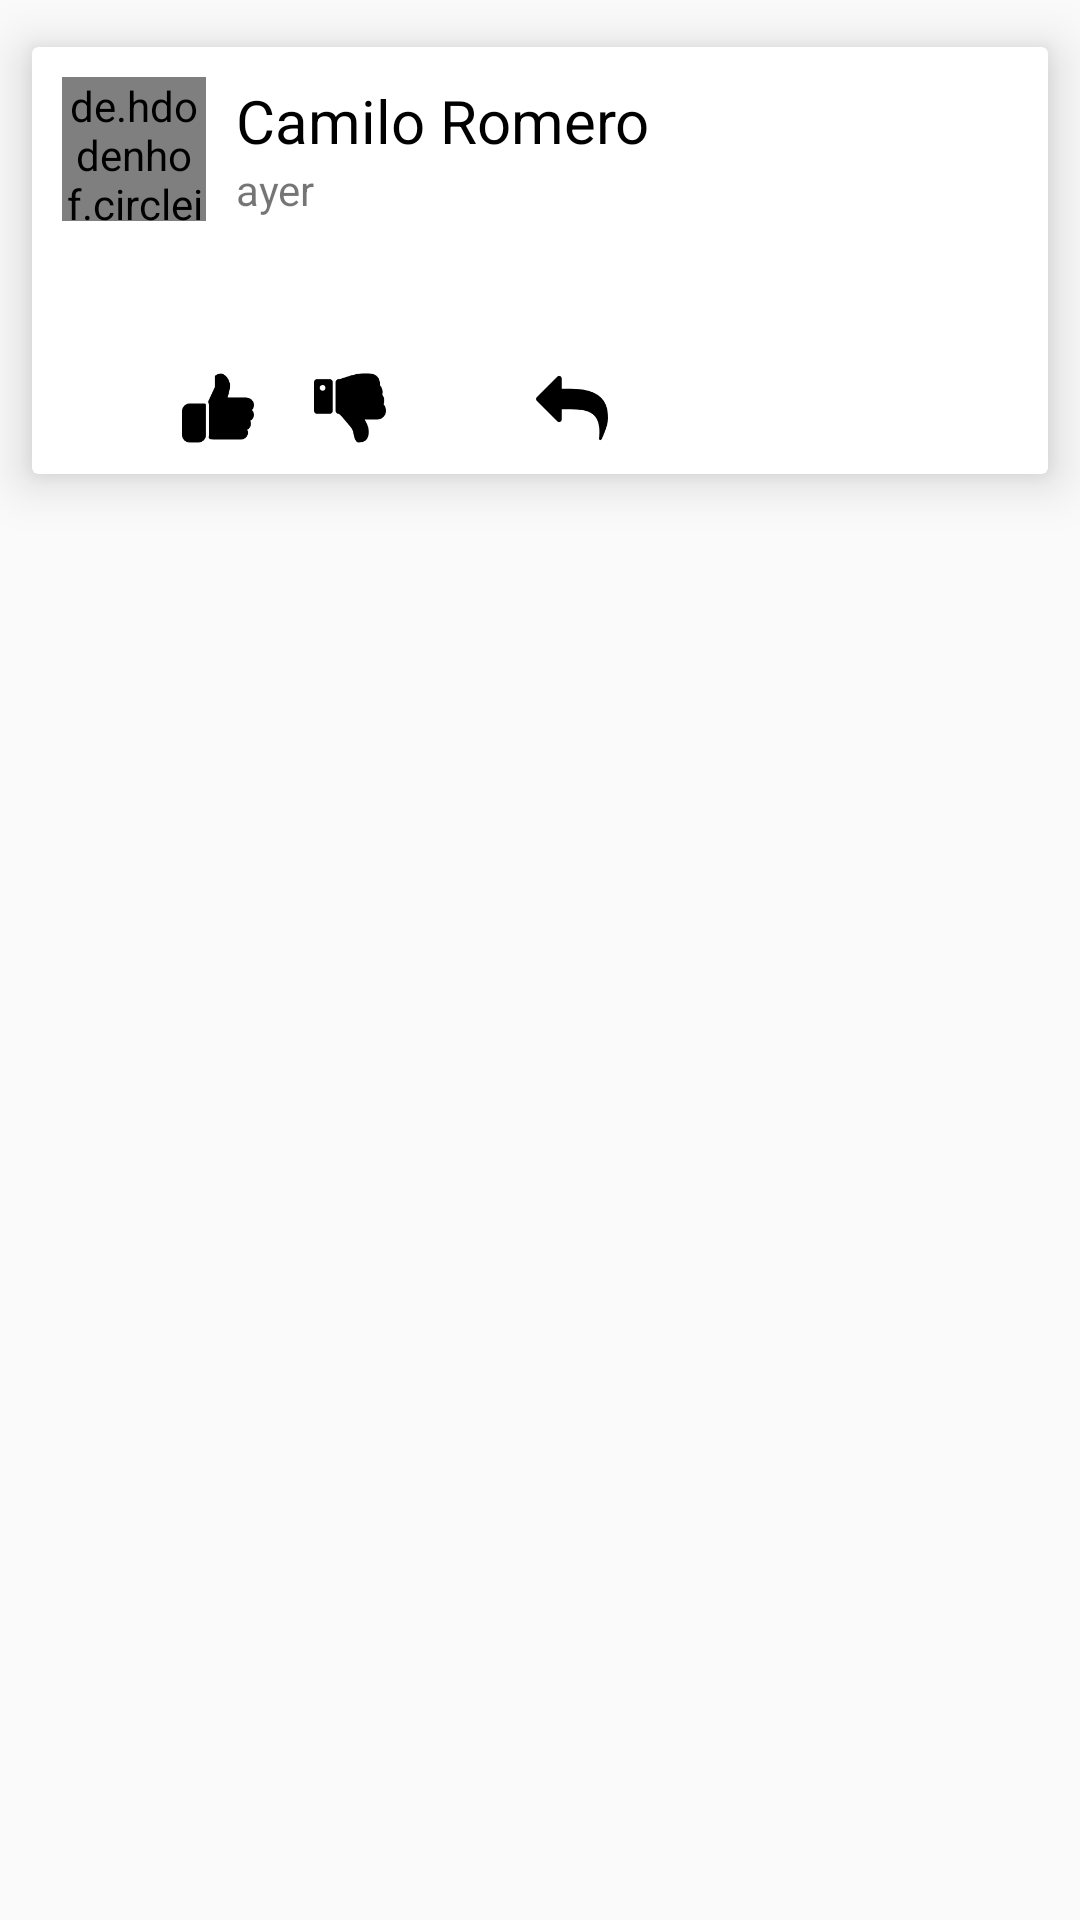

Screen size 1080×1920. Icon name, then its center in pixels as point (x, y):
megusta: point (218, 408)
nomegusta: point (350, 408)
reponder: point (572, 408)
